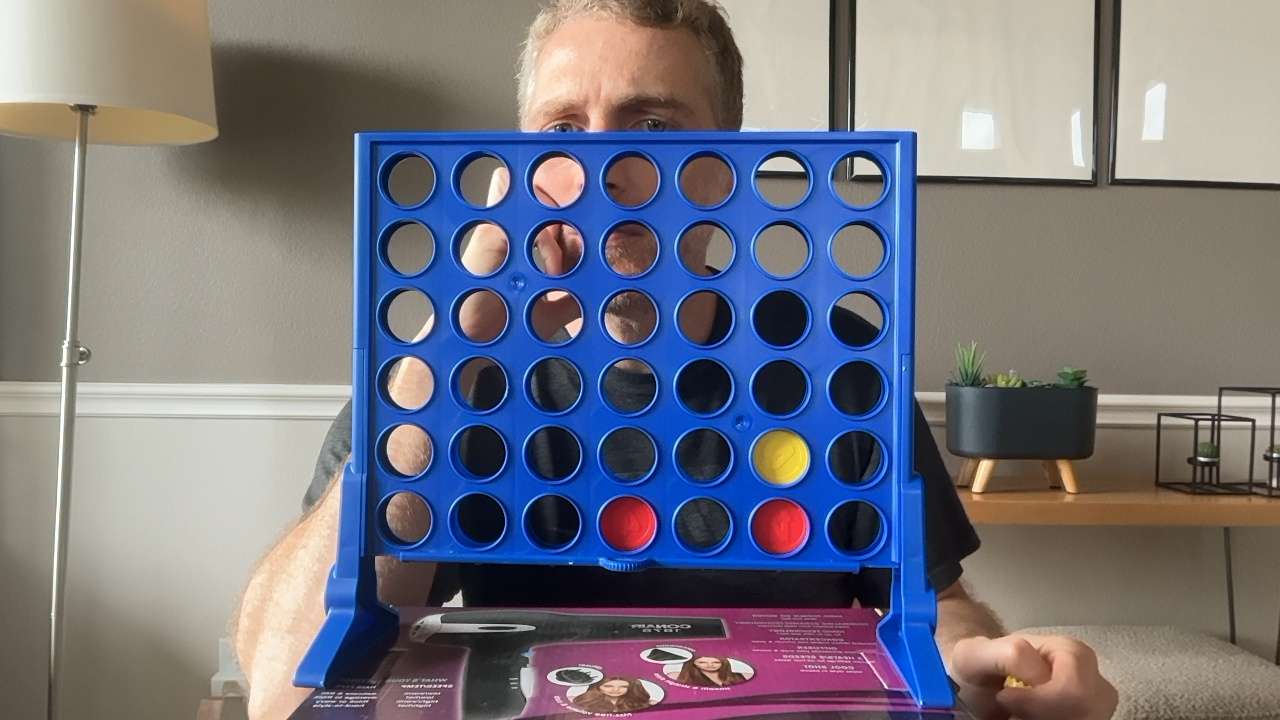red piece: (751, 499, 809, 554), (600, 496, 656, 551)
yellow piece: (752, 429, 809, 484)
